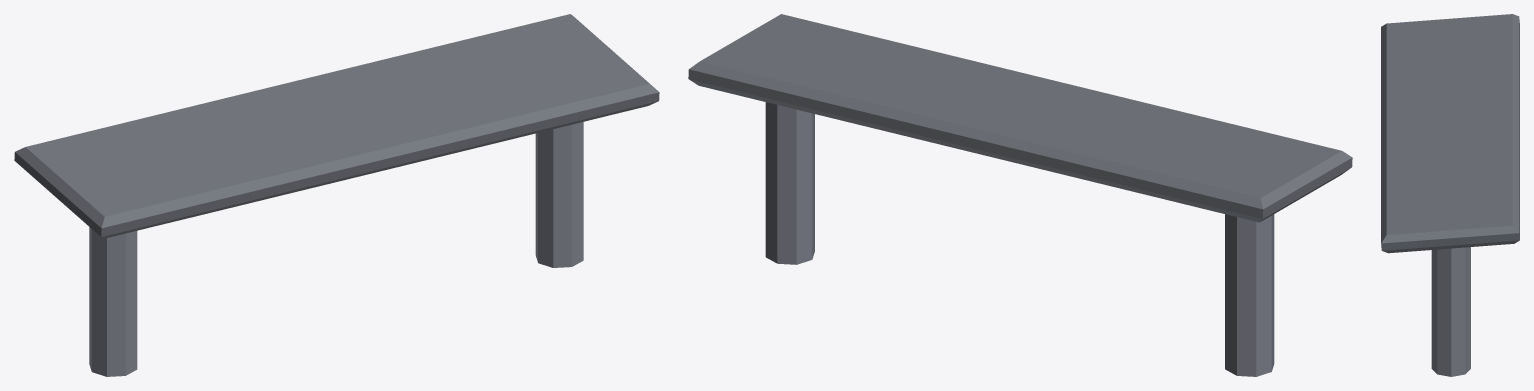
The model's file is bench.fbx.
The picture shows the model from 3 angles, left to right: view 1: azimuth 30°, elevation 25°; view 2: azimuth 150°, elevation 25°; view 3: azimuth 270°, elevation 25°; orthographic projection. The views are drawn at different scales.
Visible parts, largest first — view 1: bench1; view 2: bench1; view 3: bench1.
Boxes of the visible parts, <box> form: bench1: <box>14,14,659,376</box>; bench1: <box>688,14,1352,376</box>; bench1: <box>1381,14,1519,376</box>.
Size of the model in its own units: 148 by 51.63 by 40.06.
1 material, 1 textured.
